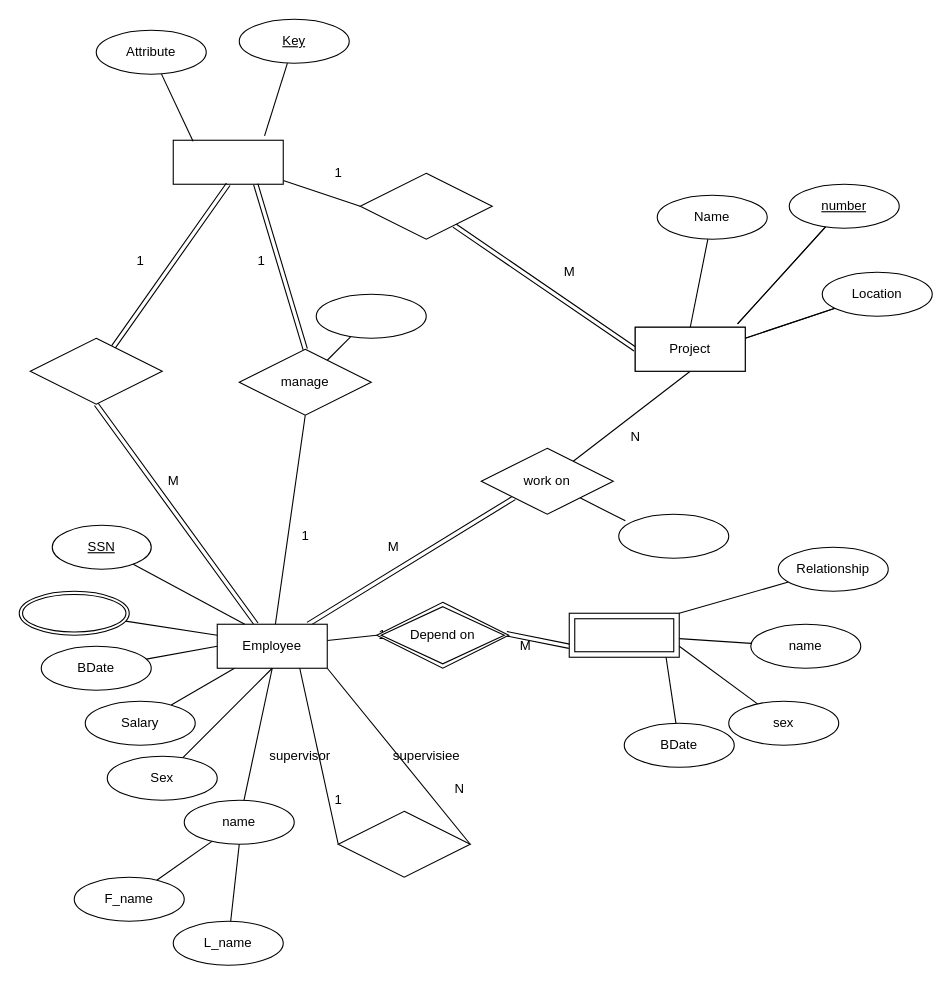
Image size: 952x985. Some labels were removed from this diagram. Each missing label, with the centre of its shape:
Address: point 73,612
control: point 425,205
Date: point 370,315
Department: point 227,161
Dependent: point 623,634
hour: point 673,535
Supervise: point 403,843
works for: point 95,370
